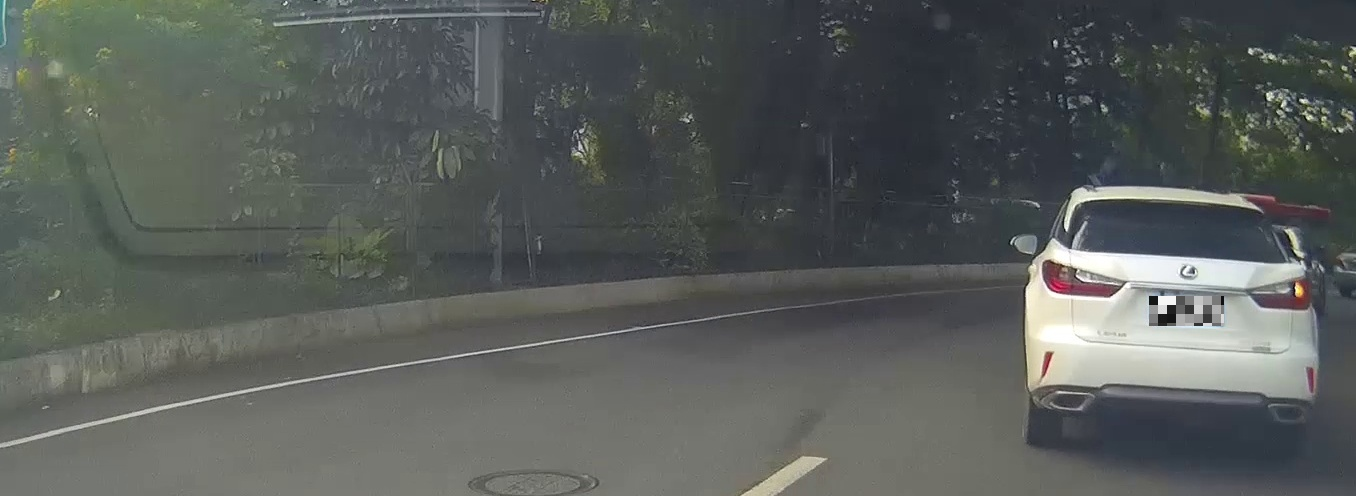L_light: (1041, 260, 1127, 298)
R_light: (1246, 276, 1313, 311)
T_light: (1148, 199, 1209, 207)
day-right: (1024, 186, 1319, 454)
plate_1: (1149, 296, 1224, 326)
